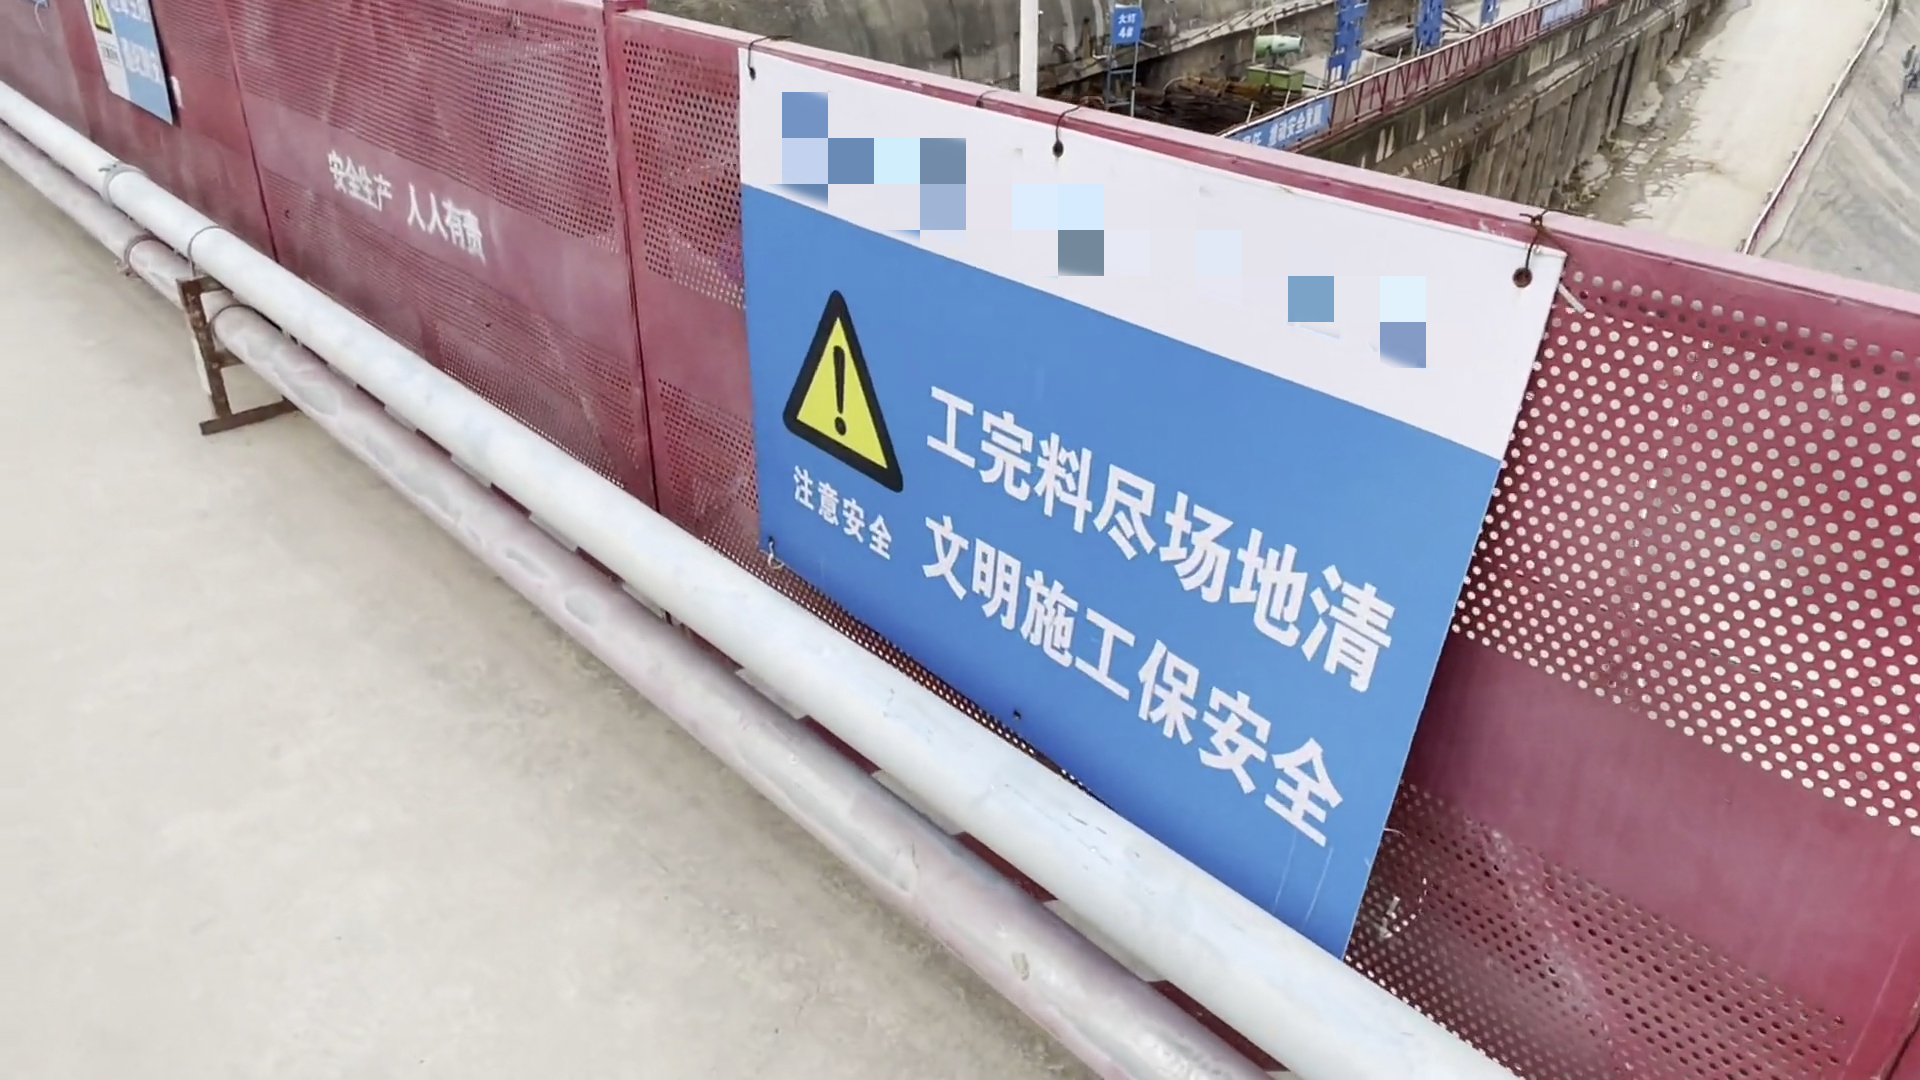fence: (266, 1, 716, 495)
slogan: (712, 38, 1569, 1004), (71, 1, 185, 124)
